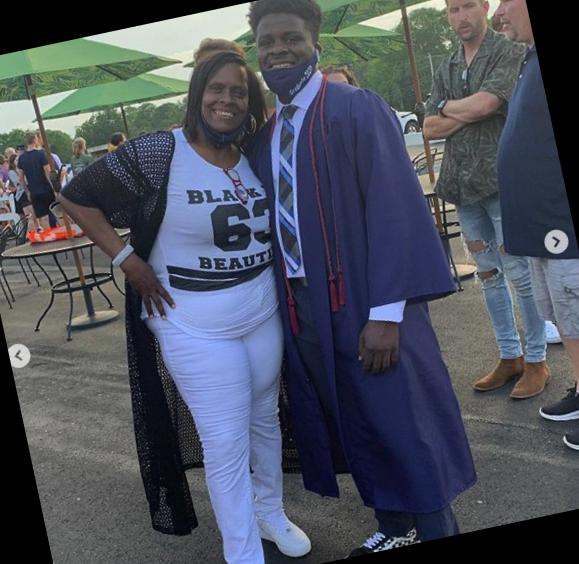mask_weared_incorrect: (253, 20, 319, 94), (198, 73, 254, 146)
without_mask: (491, 1, 532, 47), (447, 1, 487, 42)
